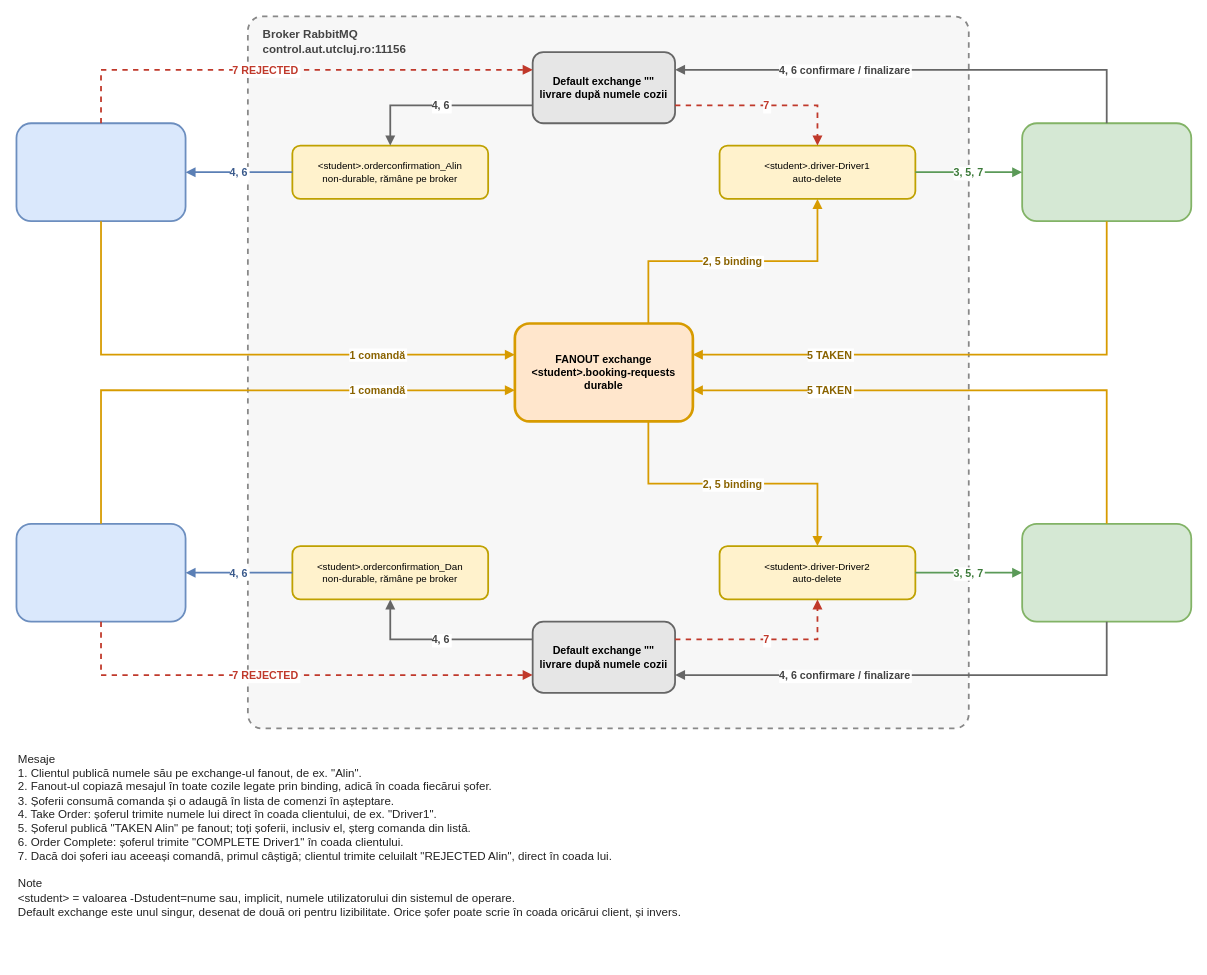
Some shapes in this 1207 by 975 pixel diagram are drawn without their labels. Here are the shapes that lost their labels. From the top down, the centre of each, then its label:
the point at 100,172: TaxiClientApp client: Alin
the point at 1106,172: TaxiDriverApp șofer: Driver1
the point at 100,572: TaxiClientApp client: Dan
the point at 1106,572: TaxiDriverApp șofer: Driver2
